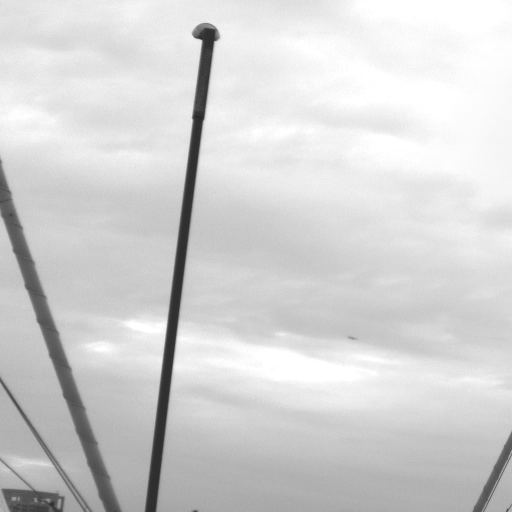uav: (346, 335, 359, 340)
